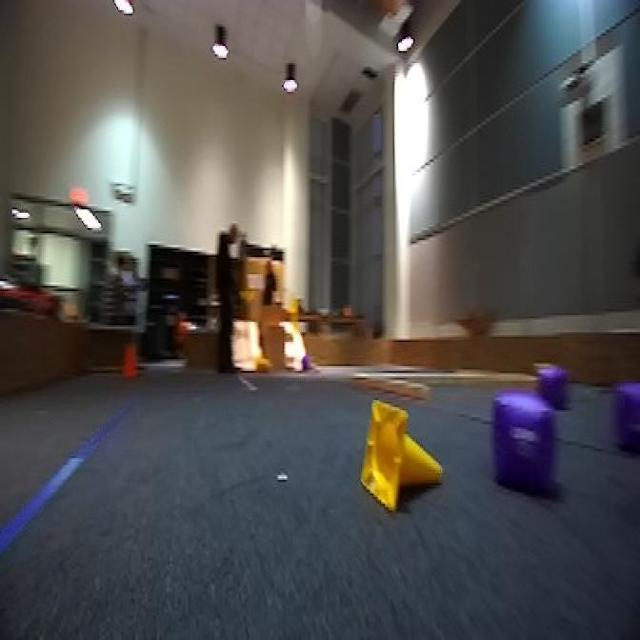frc_cone: (363, 403, 445, 509), (252, 352, 270, 377)
frc_cube: (490, 393, 555, 492), (607, 376, 640, 456), (532, 356, 570, 414), (299, 356, 314, 373)
